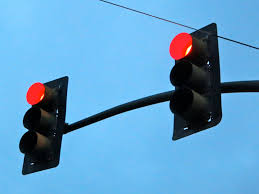traffic light: (144, 18, 239, 158), (10, 69, 79, 187)
